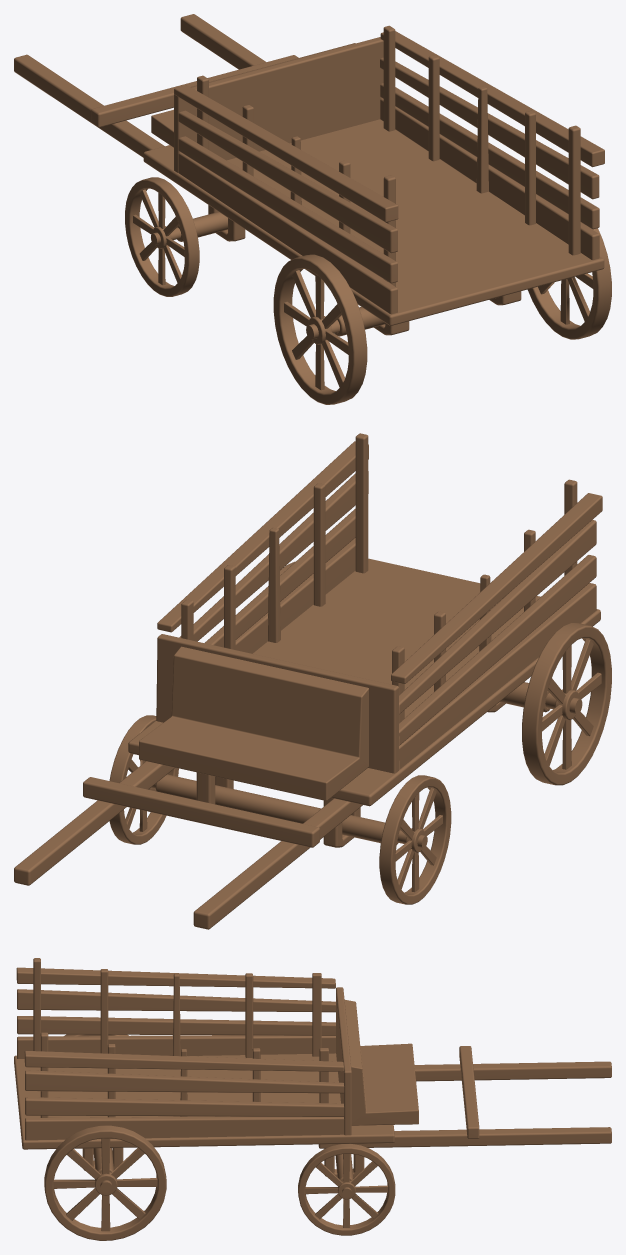
The model's file is SM_CART_HIGH_POLY.fbx.
3 views of the same model, one above another, from view 1: azimuth 30°, elevation 25°; view 2: azimuth 150°, elevation 25°; view 3: azimuth 270°, elevation 25° (orthographic). The views are drawn at different scales.
Parts seen in each view (by area): view 1: polySurface233, polySurface223, polySurface265, polySurface248, polySurface314, polySurface315, polySurface316, polySurface317, polySurface245, polySurface266, polySurface260, polySurface337 (+10 smaller); view 2: polySurface243, polySurface233, polySurface265, polySurface248, polySurface223, polySurface317, polySurface314, polySurface261, polySurface315, polySurface316, polySurface266, polySurface245 (+9 smaller); view 3: polySurface265, polySurface233, polySurface243, polySurface314, polySurface315, polySurface316, polySurface266, polySurface337, polySurface317, polySurface259, polySurface260, polySurface334 (+10 smaller).
Part boxes in pixels (x1,y1,x2,y2): polySurface233: [143, 119, 604, 325]; polySurface223: [174, 37, 383, 172]; polySurface265: [380, 57, 599, 259]; polySurface248: [273, 254, 367, 404]; polySurface314: [178, 152, 397, 314]; polySurface315: [178, 136, 397, 283]; polySurface316: [178, 110, 397, 253]; polySurface317: [174, 85, 398, 222]; polySurface245: [125, 177, 199, 296]; polySurface266: [380, 31, 604, 167]; polySurface260: [14, 54, 164, 157]; polySurface337: [527, 225, 611, 339]; polySurface243: [139, 646, 368, 800]; polySurface233: [128, 558, 600, 806]; polySurface265: [179, 471, 368, 653]; polySurface248: [522, 623, 611, 785]; polySurface223: [156, 634, 398, 773]; polySurface317: [391, 493, 602, 683]; polySurface314: [399, 583, 596, 769]; polySurface261: [83, 777, 319, 847]; polySurface315: [399, 555, 596, 745]; polySurface316: [399, 520, 596, 714]; polySurface266: [157, 441, 368, 632]; polySurface245: [379, 775, 451, 904]; polySurface265: [25, 1070, 344, 1140]; polySurface233: [14, 1053, 394, 1149]; polySurface243: [344, 1000, 418, 1125]; polySurface314: [17, 1035, 335, 1058]; polySurface315: [17, 1016, 335, 1035]; polySurface316: [17, 989, 335, 1012]; polySurface266: [24, 1051, 343, 1071]; polySurface337: [44, 1125, 166, 1240]; polySurface317: [16, 967, 335, 988]; polySurface259: [318, 1127, 611, 1148]; polySurface260: [414, 1061, 611, 1081]; polySurface334: [53, 1138, 157, 1231].
Size of the model in its own units: 192 by 158 by 442.
